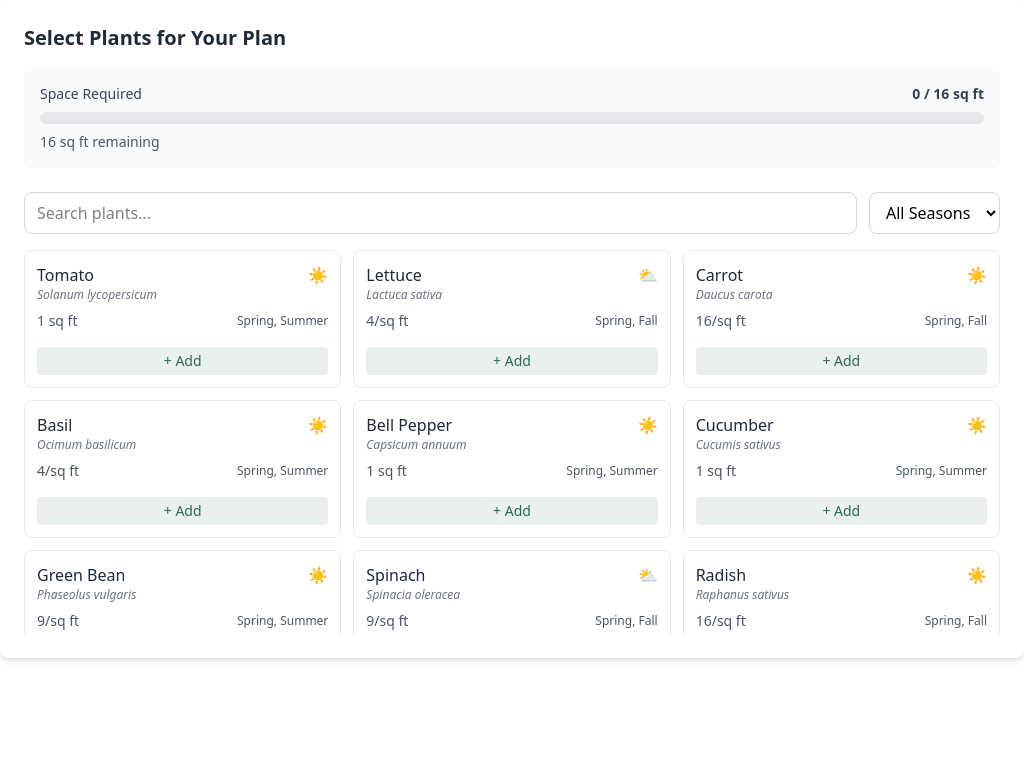
Test case: PlantSelector › search and filtering › should show no results message when no plants match
The width and height of the screenshot is (1024, 768).
In the field with placeholder "Search plants...": (440, 213) [24,192,857,234], type "xyz123"
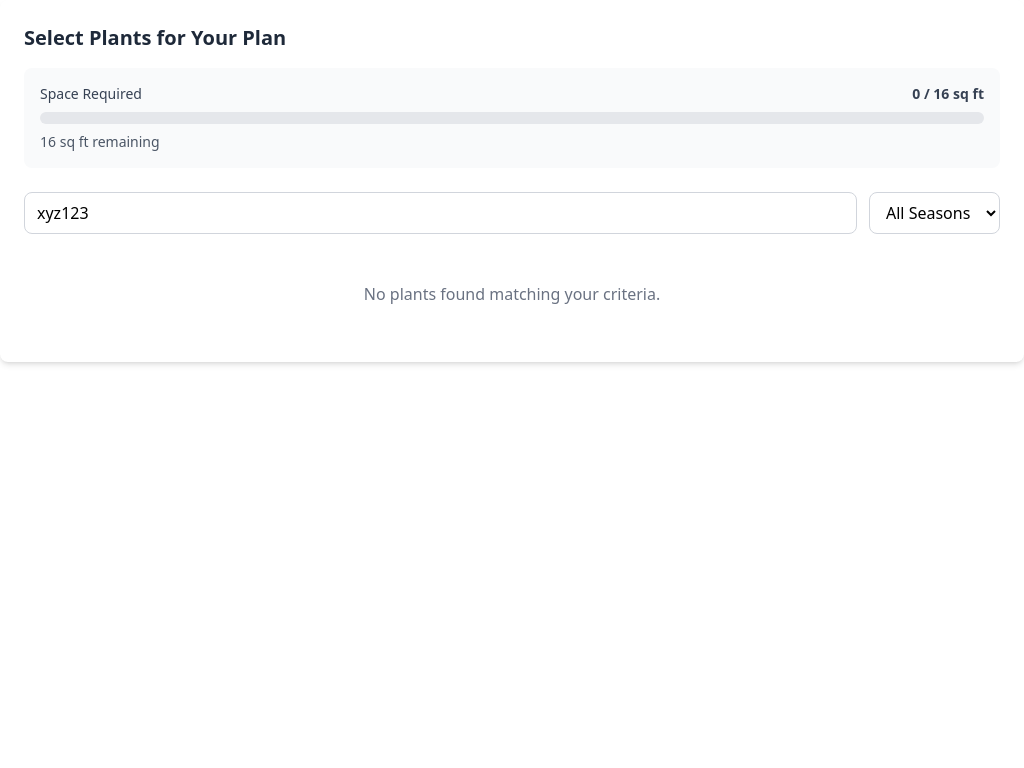
Now the text "No plants found matching your criteria." is shown, box [364,283,660,305]
